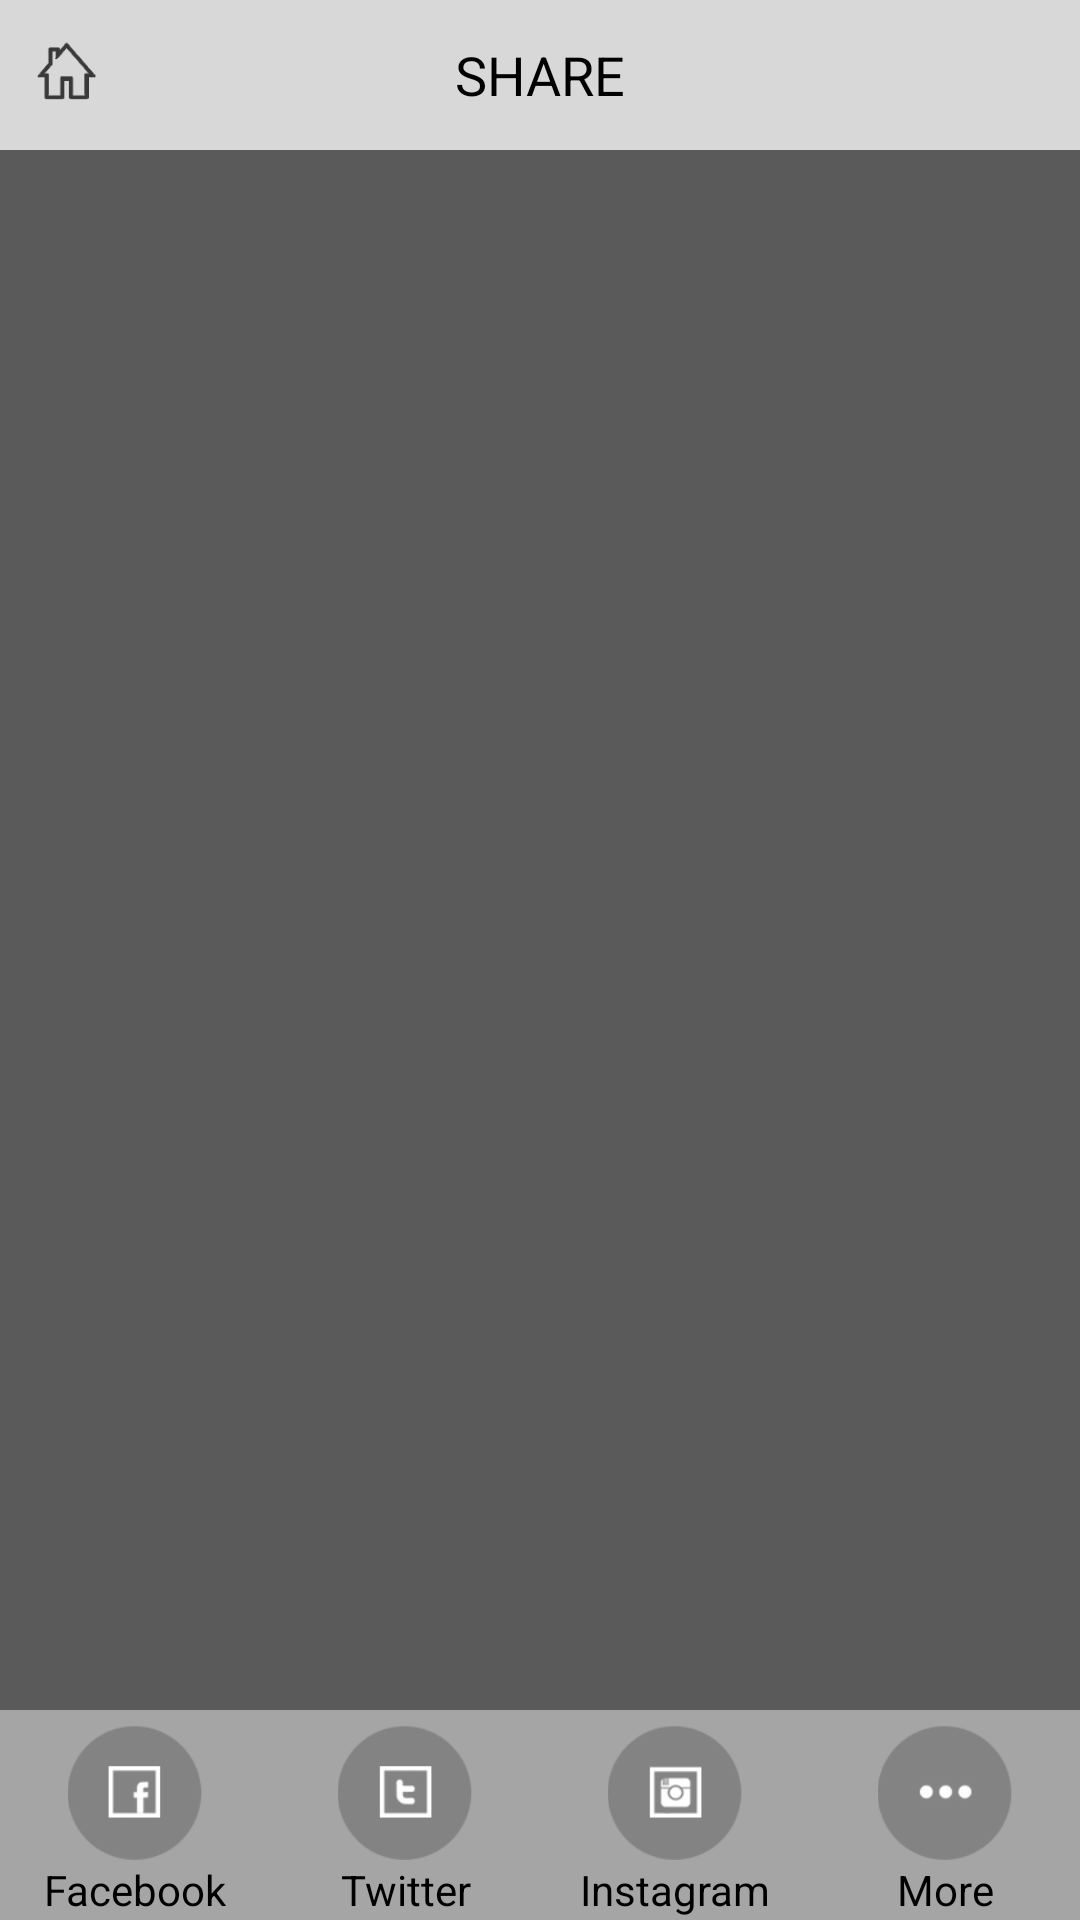

Screen size 1080px x 1920px. Icon name, then its box in pixels as bbox=[x1, y1, x2, y2]:
home: bbox=[37, 42, 96, 100]
